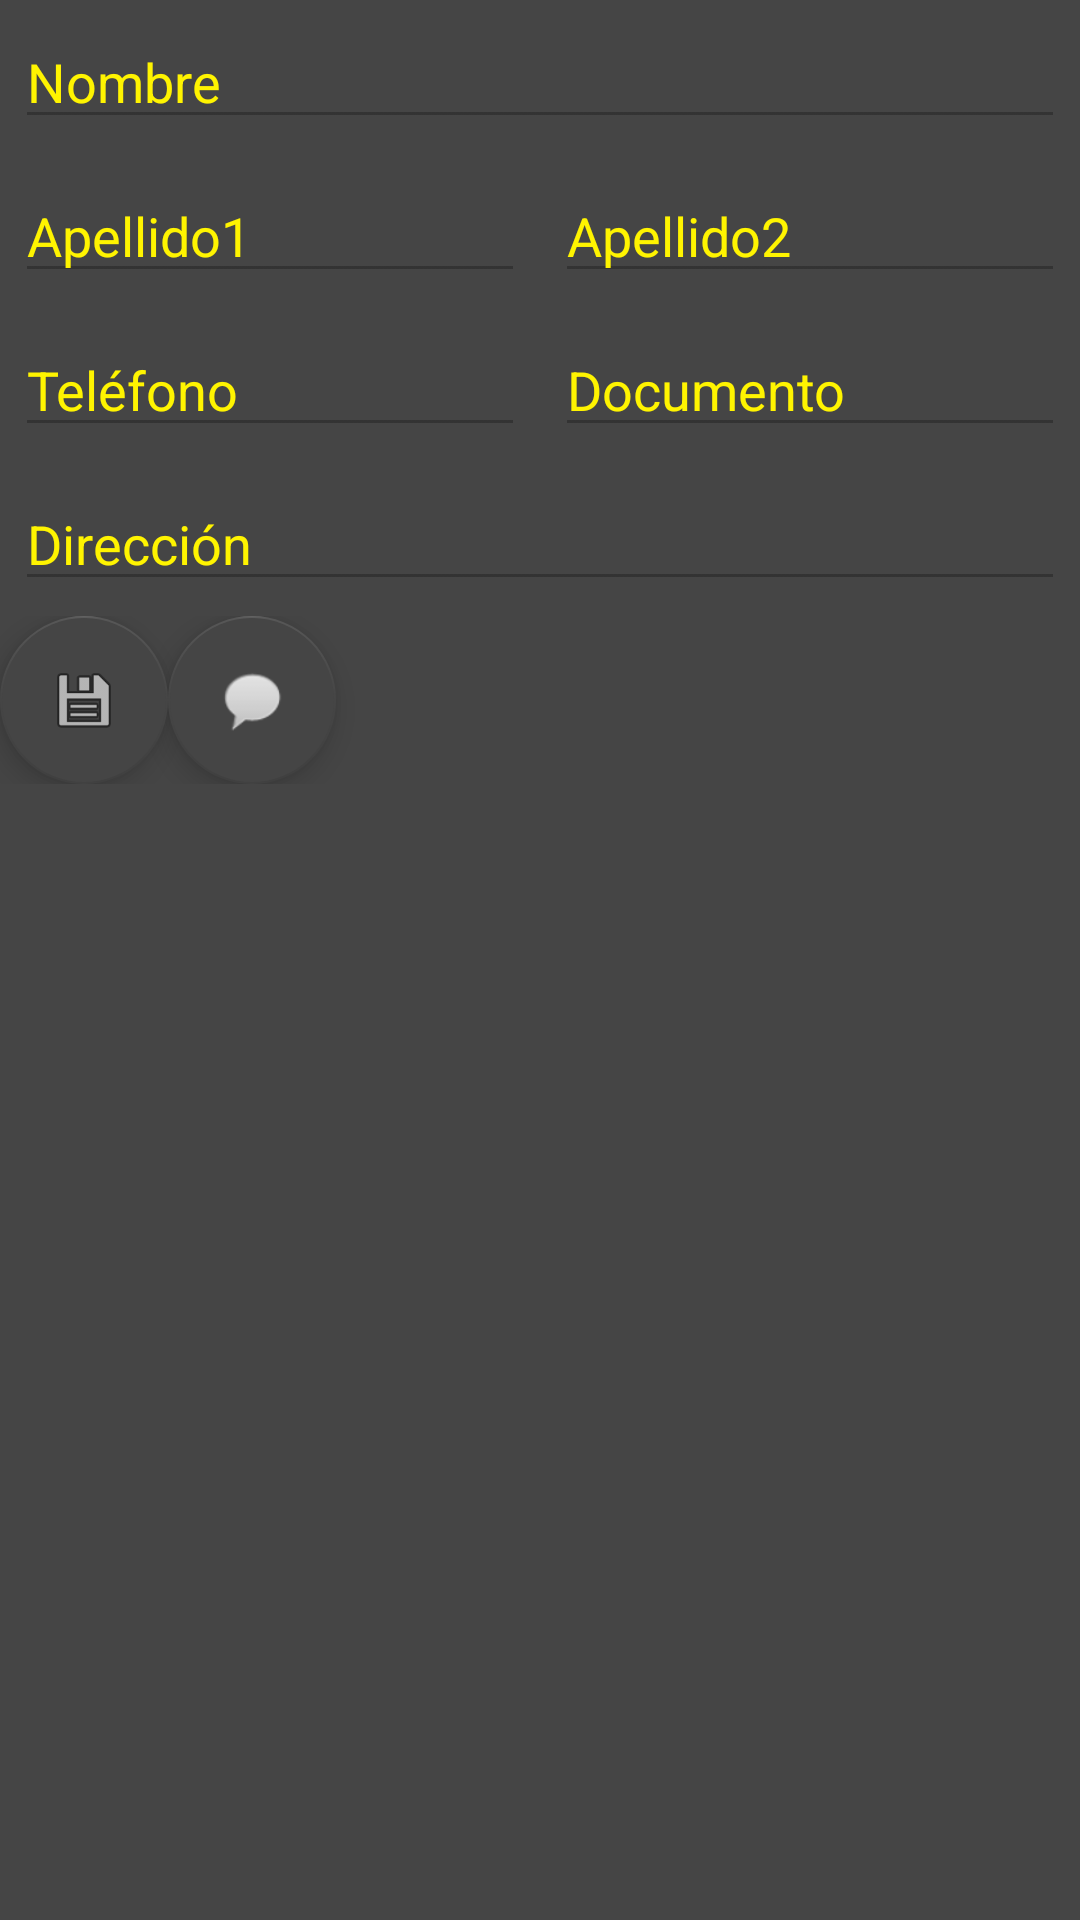

Screen size 1080*1920. Icon name, then its center in pixels as point (x, y):
save: point (84, 671)
sym action chat: point (253, 673)
